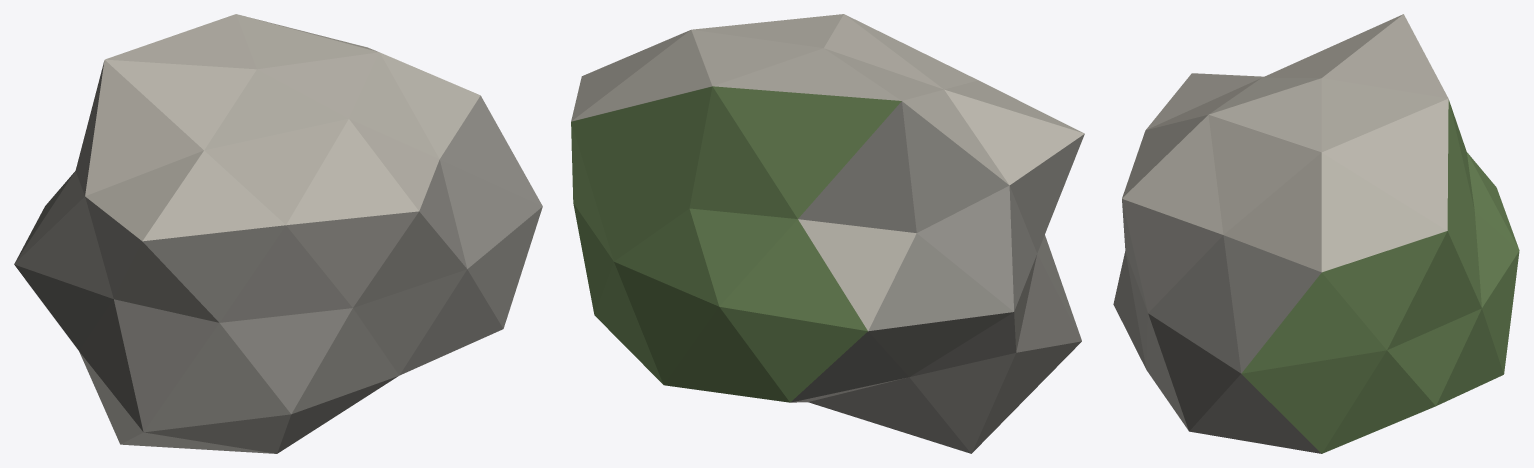
Rendered from nat_rock_a_v01.glb.
3 views of the same model, side by side, from view 1: azimuth 30°, elevation 25°; view 2: azimuth 150°, elevation 25°; view 3: azimuth 270°, elevation 25° (orthographic). The views are drawn at different scales.
Visible parts, largest first — view 1: rock; view 2: rock; view 3: rock.
Boxes of the visible parts, left/top/right/bottom form: rock: left=14, top=14, right=542, bottom=453; rock: left=571, top=14, right=1084, bottom=453; rock: left=1113, top=14, right=1519, bottom=453.
Bounding box in the file's own units: 1.37 × 1 × 1.03.
